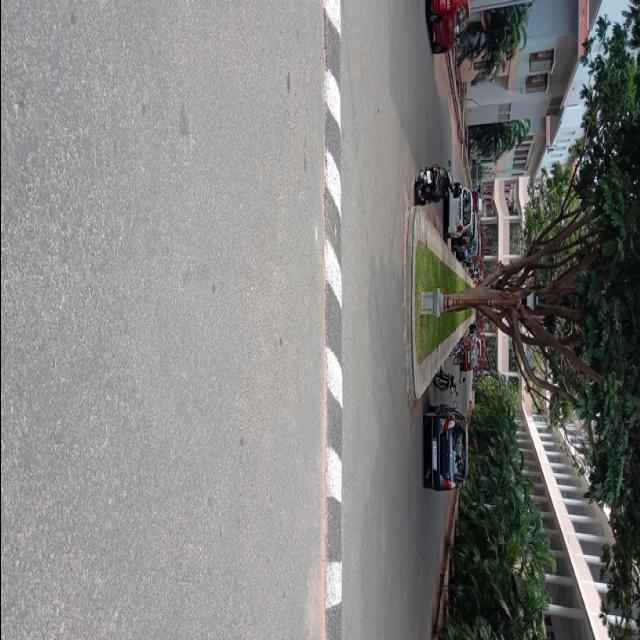Marked Bump: (310, 23, 363, 627)
